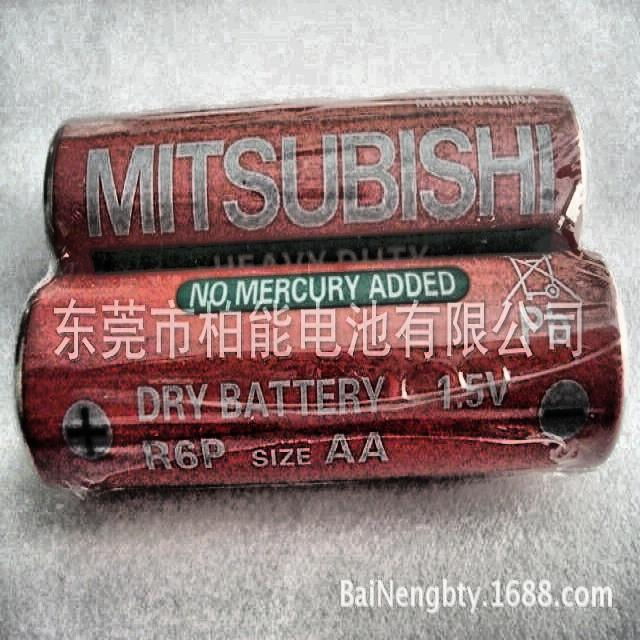Non-Valuable Waste - Batteries: (20, 92, 622, 489)
